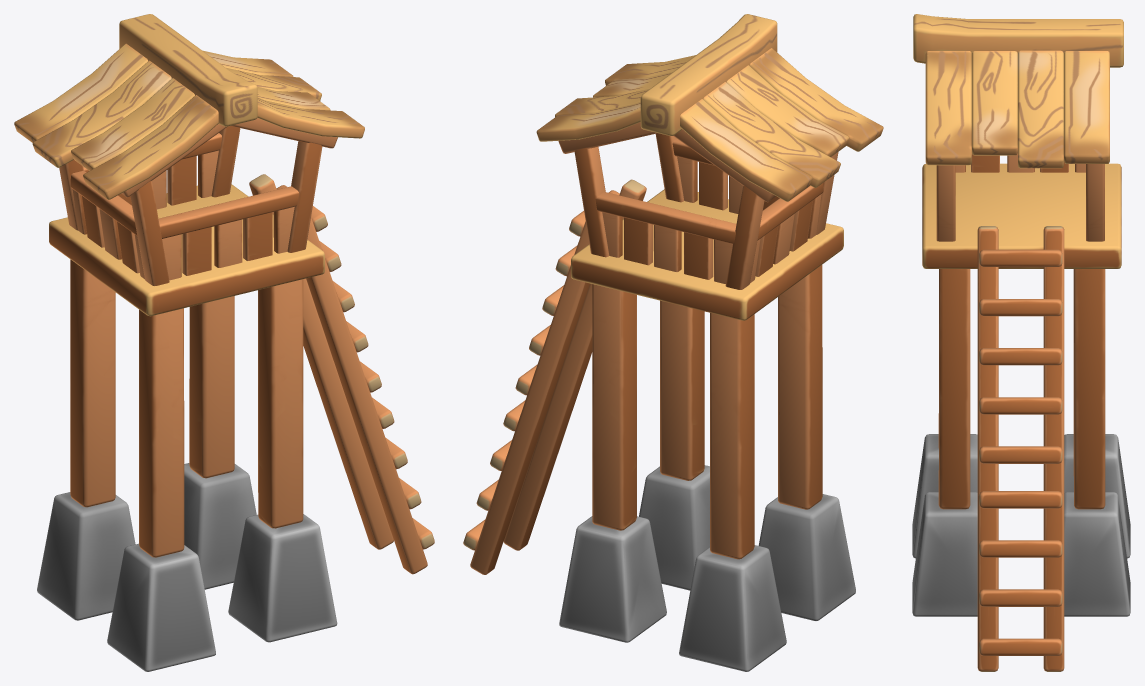
File: watchtower2.fbx
3 views of the same model, side by side, from view 1: azimuth 30°, elevation 25°; view 2: azimuth 150°, elevation 25°; view 3: azimuth 270°, elevation 25° (orthographic).
Parts seen in each view (by area): view 1: watchtower2; view 2: watchtower2; view 3: watchtower2.
Part boxes in pixels (box(x1,y1,x2,y2)): watchtower2: box(14, 14, 434, 671); watchtower2: box(463, 14, 883, 671); watchtower2: box(912, 14, 1130, 671).
Size of the model in its own units: 558 by 827 by 296.
